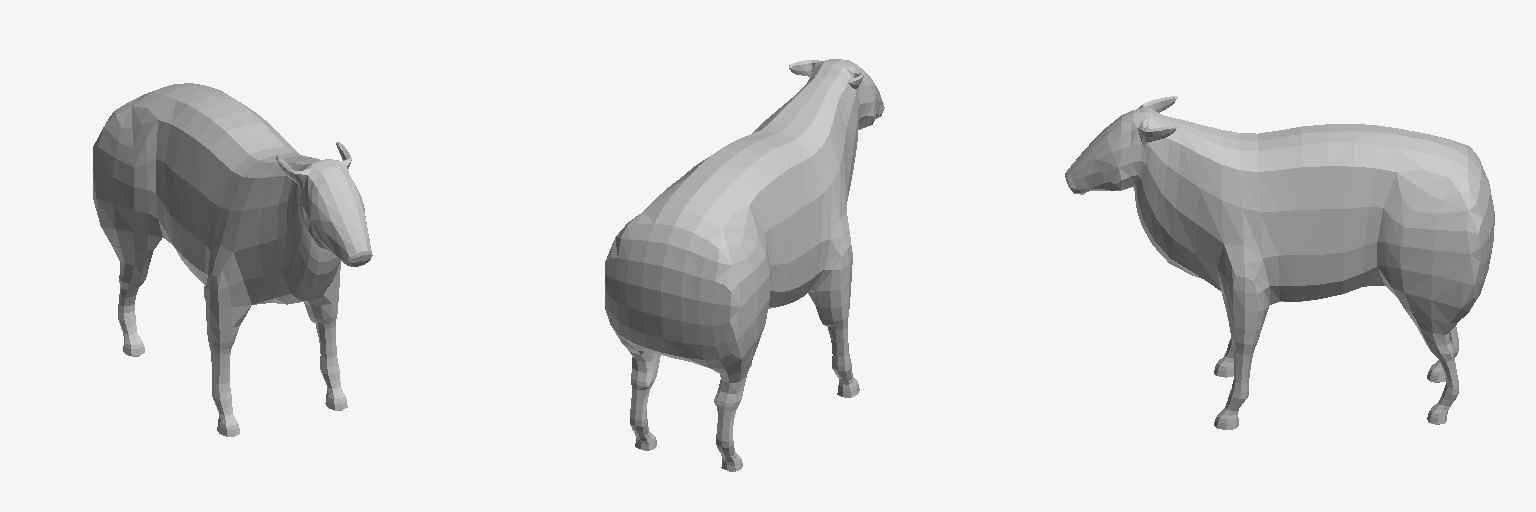
File: SHEEP SMOOTH.obj
The picture shows the model from 3 angles: view 1: azimuth 30°, elevation 25°; view 2: azimuth 150°, elevation 25°; view 3: azimuth 270°, elevation 25°; orthographic projection.
Parts seen in each view (by area): view 1: Sheep; view 2: Sheep; view 3: Sheep.
Boxes of the visible parts, x1,y1,x2,y2 form: Sheep: [93, 83, 372, 436]; Sheep: [605, 59, 884, 471]; Sheep: [1065, 96, 1494, 429].
Bounding box in the file's own units: 213 × 434 × 582.